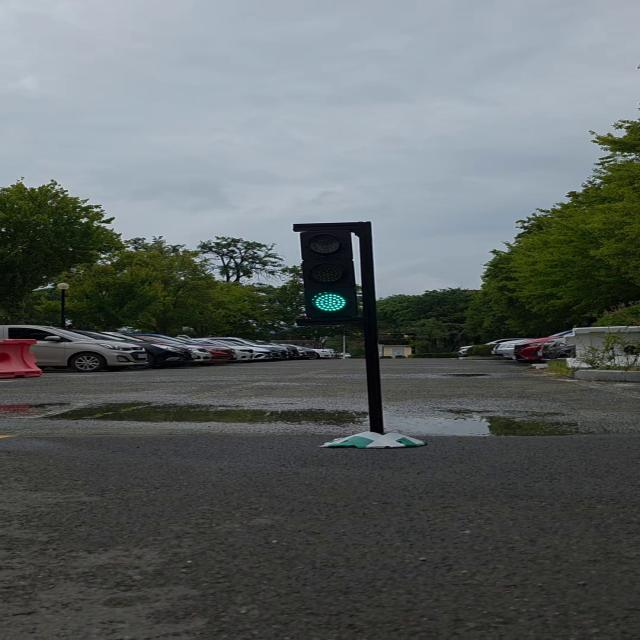green: (299, 224, 375, 324)
